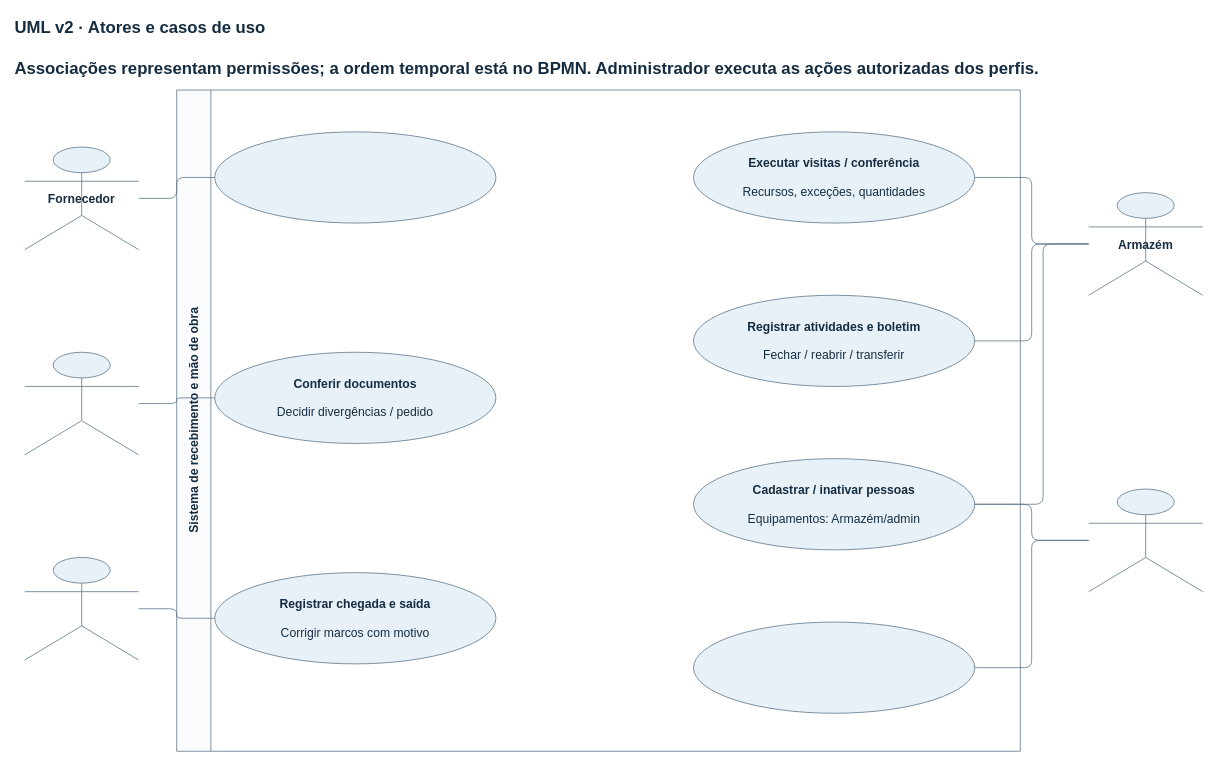
This 1227x765 diagram has some shape labels left out. Here are the shapes that lost their labels. From the top down, the centre of each, then its label:
point 355,177: Anexar / vincular notas Solicitar a própria carga
point 81,403: Compras
point 1145,540: Gestão
point 81,608: Portaria
point 834,667: Consultar apuração e RH Cobertura / cenário / ocorrências
